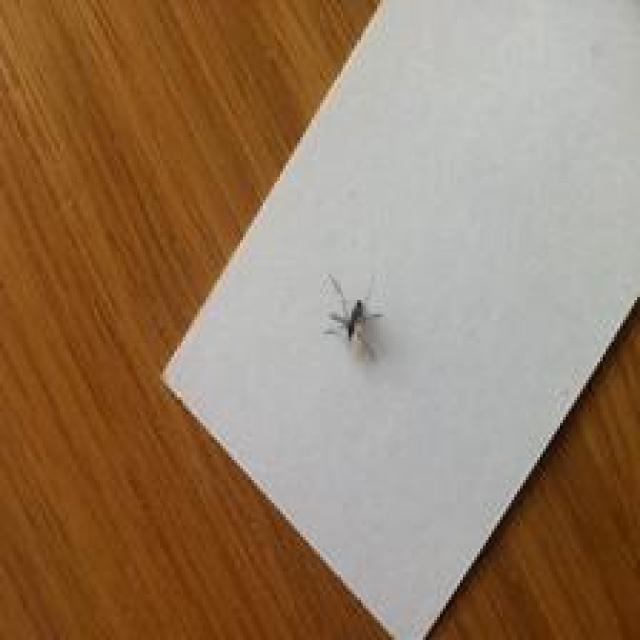Aedes albopictus: (323, 273, 383, 358)
